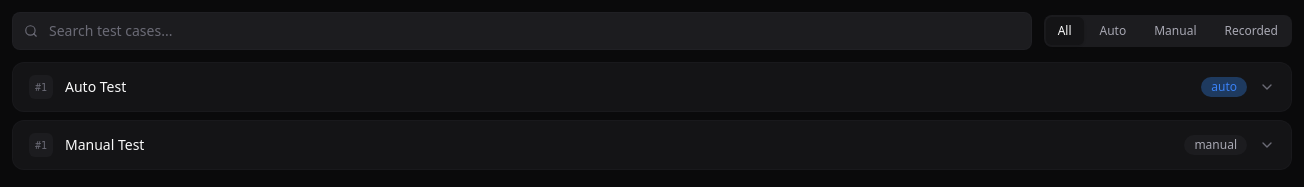
Test: TestCasesPanel › filters test cases by source
// Click "Manual" filter
Click the button "Manual" at (1175, 31), box [1142,17,1208,45]
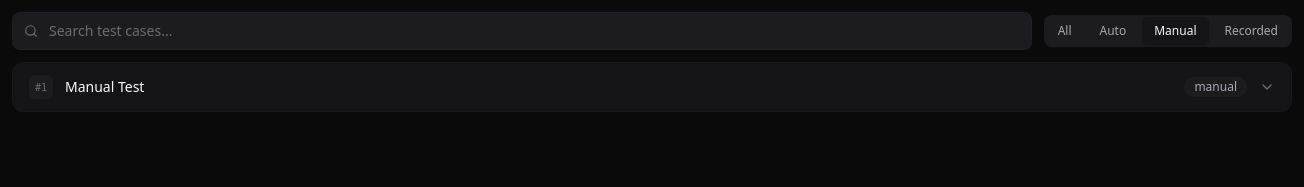
Expected: the text "Manual Test" is shown, [65,77,144,96]
Expected: the button "Auto Test" is gone
